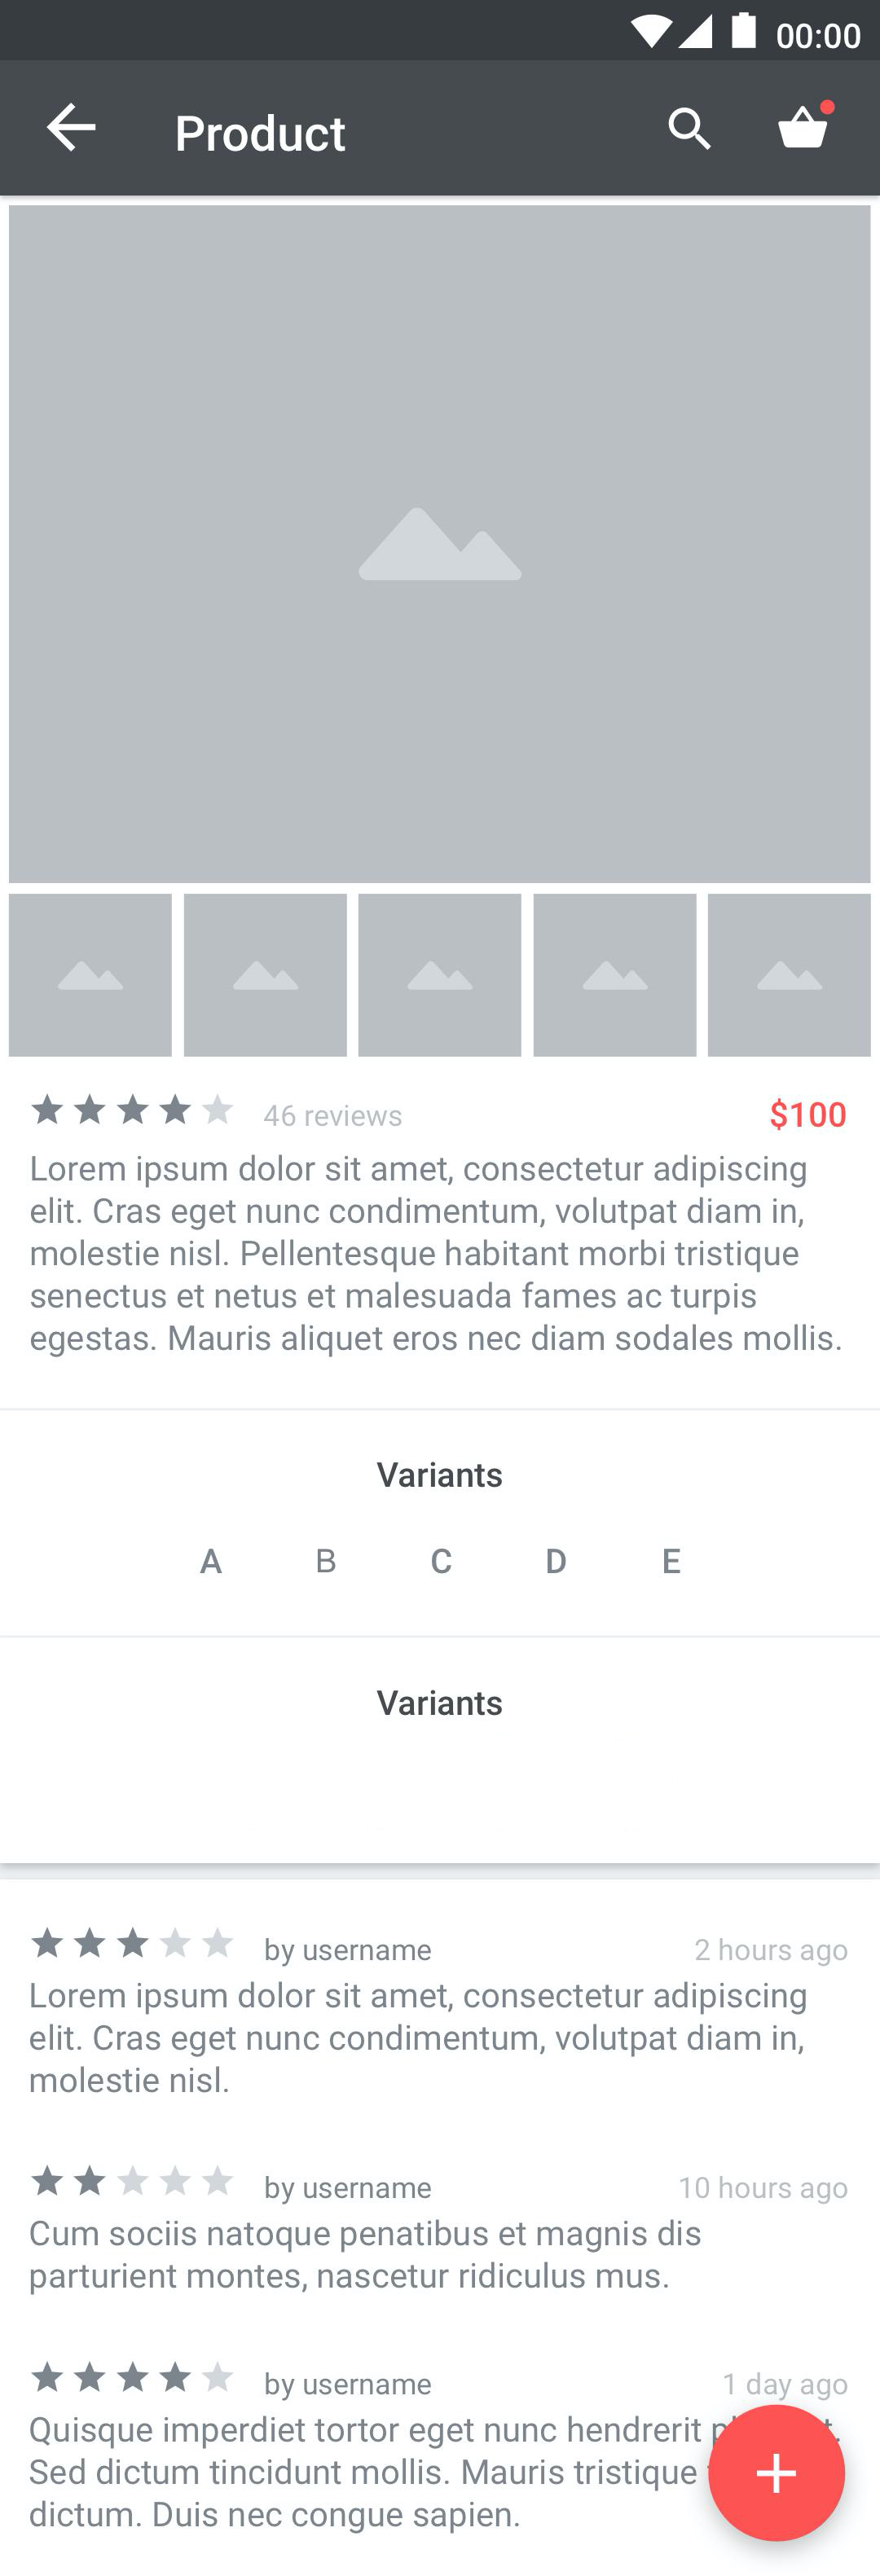Icon: (708, 2403, 846, 2541), (30, 1091, 235, 1127), (30, 1925, 235, 1958), (30, 2359, 233, 2392), (30, 2165, 235, 2196), (777, 99, 836, 149), (46, 102, 99, 153), (667, 107, 713, 151)
Image: (10, 205, 872, 884), (184, 894, 348, 1058), (358, 894, 522, 1058), (708, 894, 872, 1058), (10, 894, 172, 1058), (534, 894, 696, 1056)
Text: (30, 1155, 842, 1359), (28, 1981, 811, 2095), (25, 2415, 703, 2537), (30, 2218, 703, 2295), (177, 113, 346, 154), (693, 1934, 849, 1968), (678, 2173, 849, 2205), (264, 2175, 433, 2206), (264, 2371, 433, 2402), (266, 1937, 433, 1968), (721, 2371, 847, 2402), (376, 1689, 504, 1717), (376, 1460, 502, 1488), (264, 1102, 404, 1127), (770, 1096, 847, 1132), (200, 1549, 223, 1575), (432, 1548, 453, 1574), (547, 1549, 568, 1575), (663, 1548, 681, 1575), (319, 1548, 337, 1574)
UpperTaskBar: (0, 0, 880, 62)
